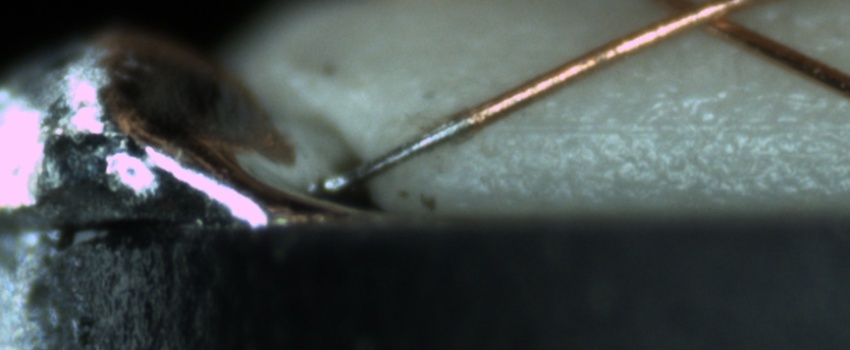CL: (641, 2, 757, 41)
DL: (448, 96, 850, 160)
TS: (313, 108, 470, 193)
